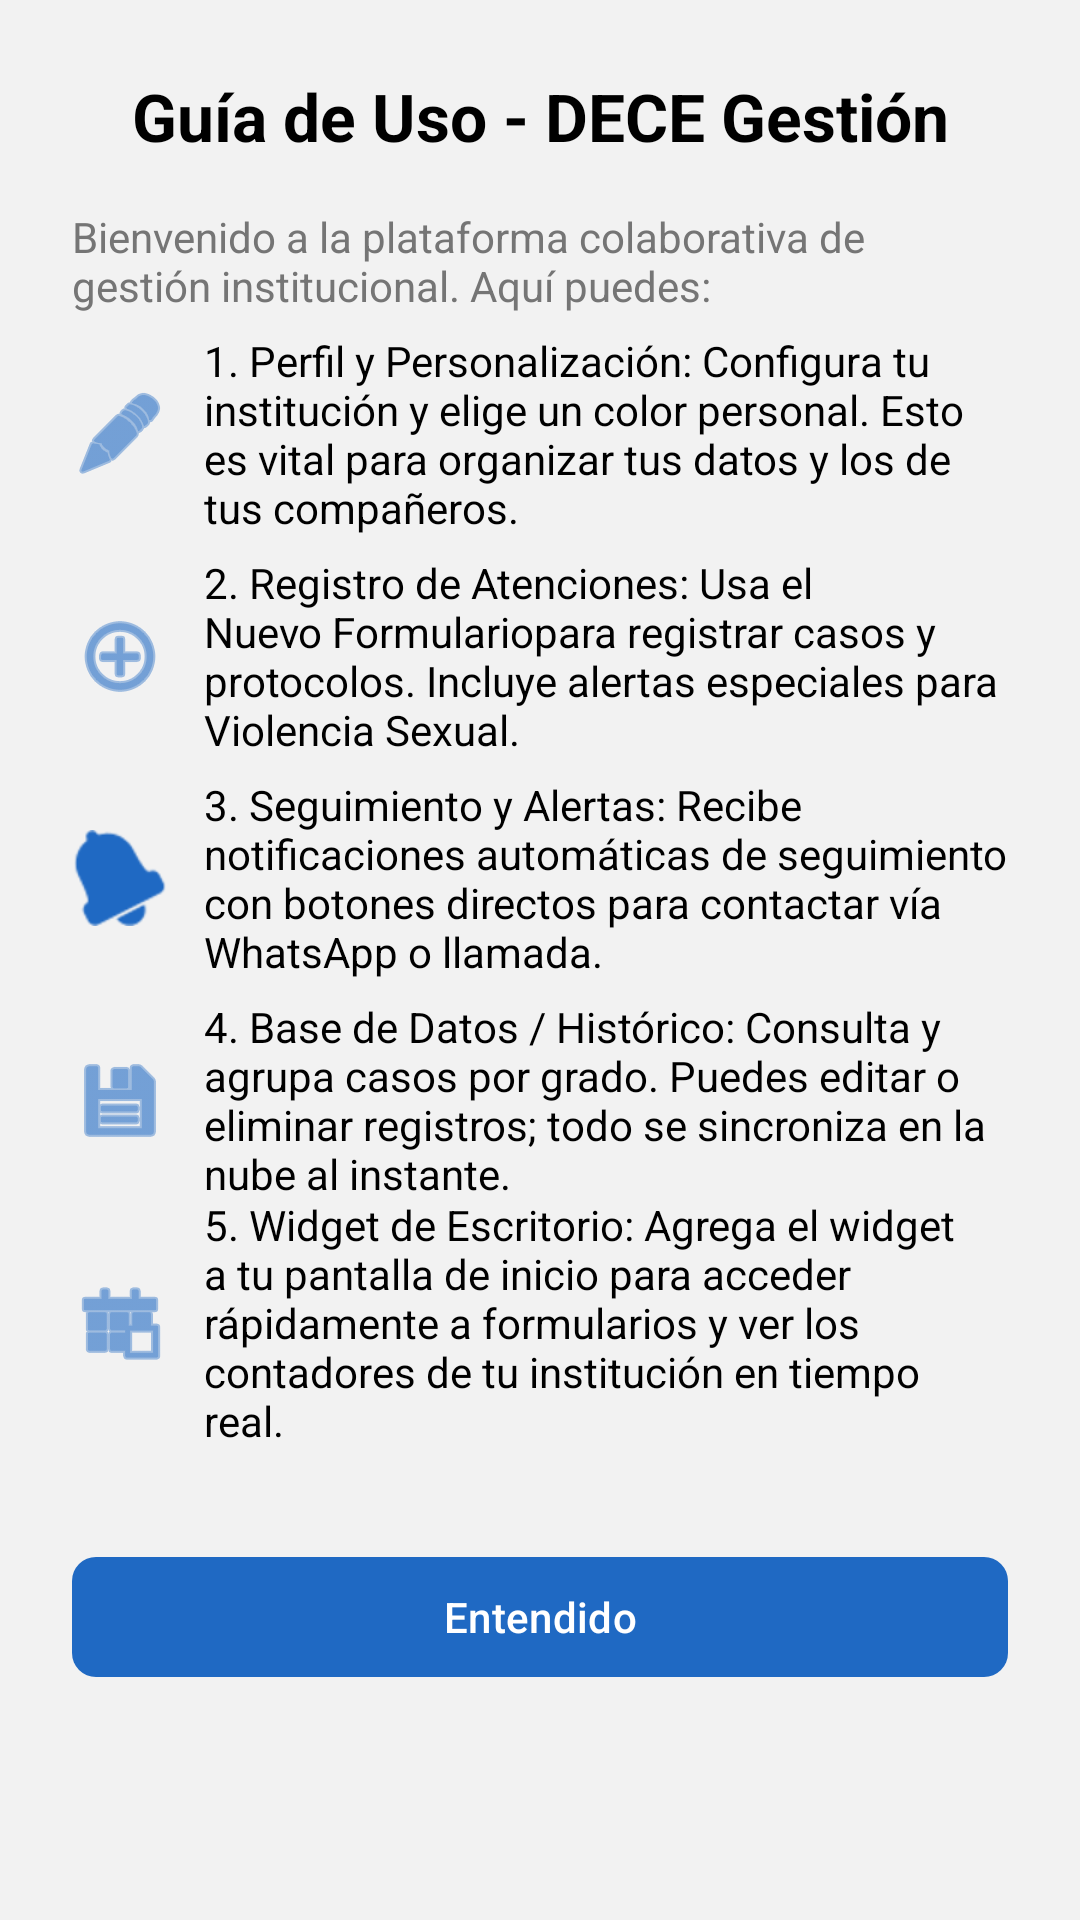

Icons on this 1080px x 1920px Android screen, each with its box as (x1, y1, x2, y2):
add: (84, 621, 156, 692)
edit: (79, 393, 160, 474)
popup reminder: (75, 830, 165, 926)
save: (84, 1064, 156, 1137)
today: (82, 1287, 160, 1360)
